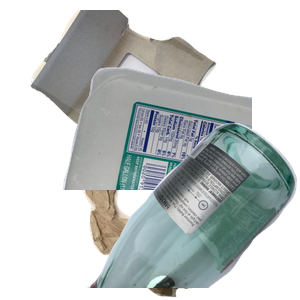glass: (86, 120, 300, 300)
paper: (28, 10, 268, 190)
plastic: (60, 65, 300, 245)
trash: (73, 147, 300, 300)
